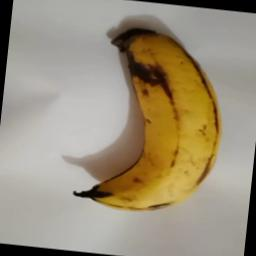Banana Unripe: (68, 24, 232, 222)
